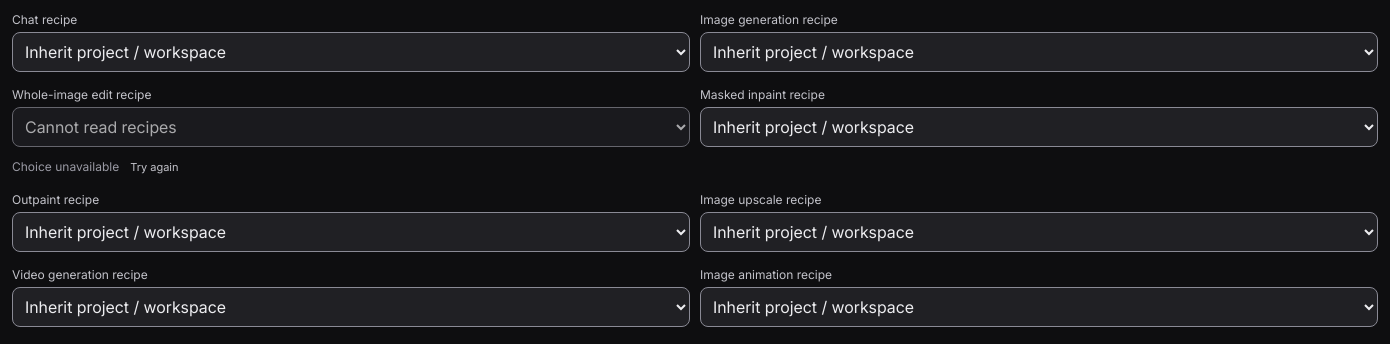
leaves a failed read unresolved and retries only after an explicit action
expect the text "Choice unavailable" is shown: met, box top-left (12, 159), bottom-right (119, 174)
expect the dropdown labelled "Whole-image edit recipe" shows "Cannot read recipes": met, box top-left (12, 107), bottom-right (690, 147)
What coordinates should you click on to do the following:
click the button with aria-label "Retry Whole-image edit recipe"
I would click on:
 (154, 167)
Its box is top-left (119, 152), bottom-right (190, 182).
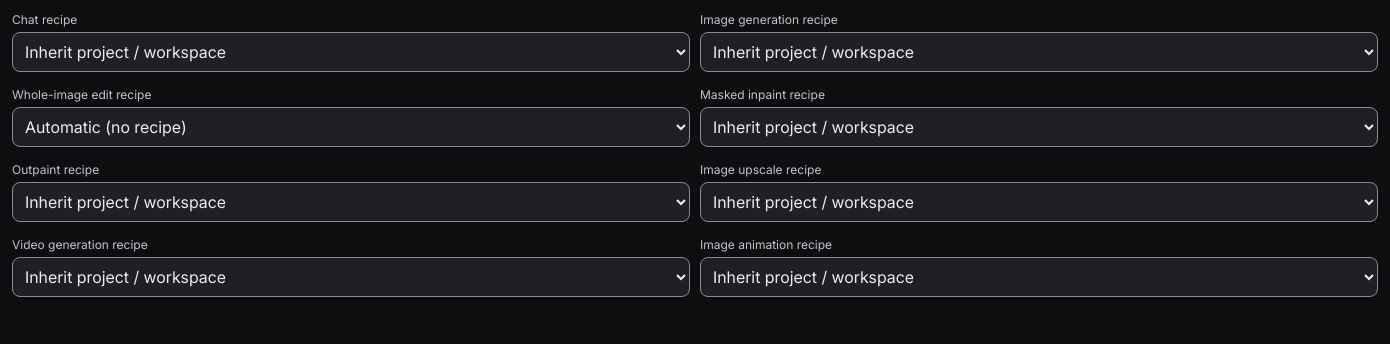
expect the dropdown labelled "Whole-image edit recipe" shows "Automatic (no recipe)": met, box top-left (12, 107), bottom-right (690, 147)
